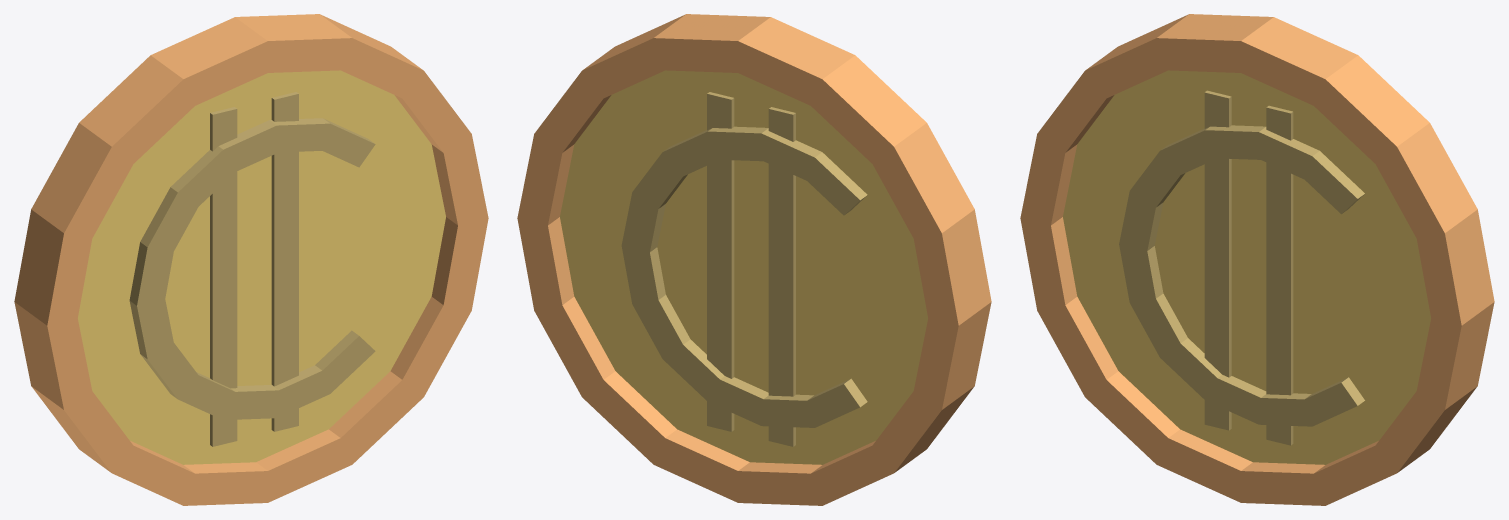
The model's file is TreasureCoin.fbx.
The picture shows the model from 3 angles, left to right: view 1: azimuth 30°, elevation 25°; view 2: azimuth 150°, elevation 25°; view 3: azimuth 330°, elevation 25°; orthographic projection.
Visible parts, largest first — view 1: Mesh; view 2: Mesh; view 3: Mesh.
Part boxes in pixels (x1,y1,x2,y2): Mesh: (14,14,488,505); Mesh: (517,14,991,505); Mesh: (1020,14,1494,505).
Size of the model in its own units: 0.5 by 0.5 by 0.0646.
